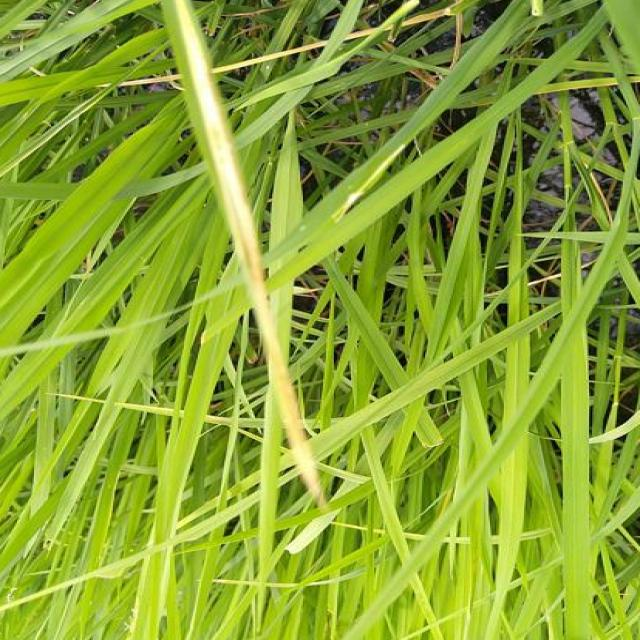Leaf Blight: (159, 0, 328, 509)
